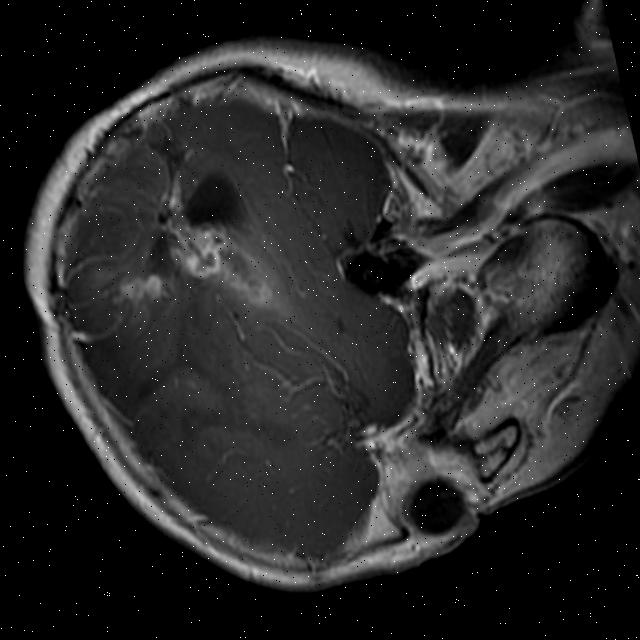Glioma: (149, 186, 232, 287), (212, 225, 273, 313), (117, 272, 165, 307)
